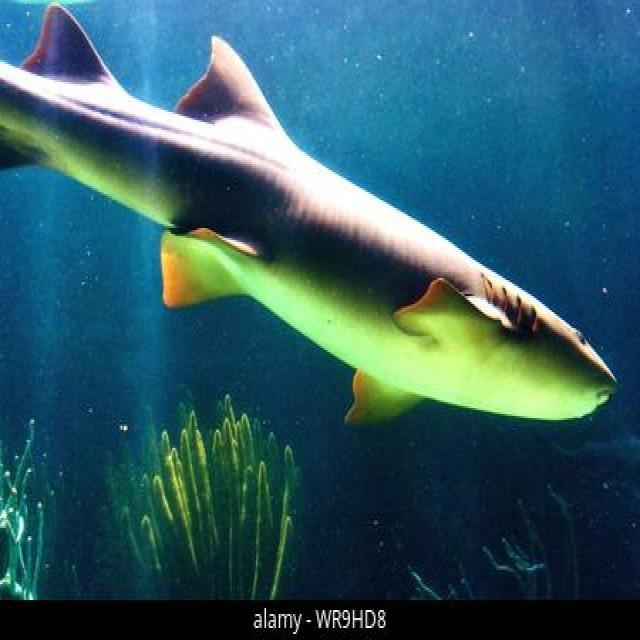Shark: (0, 8, 634, 452)
